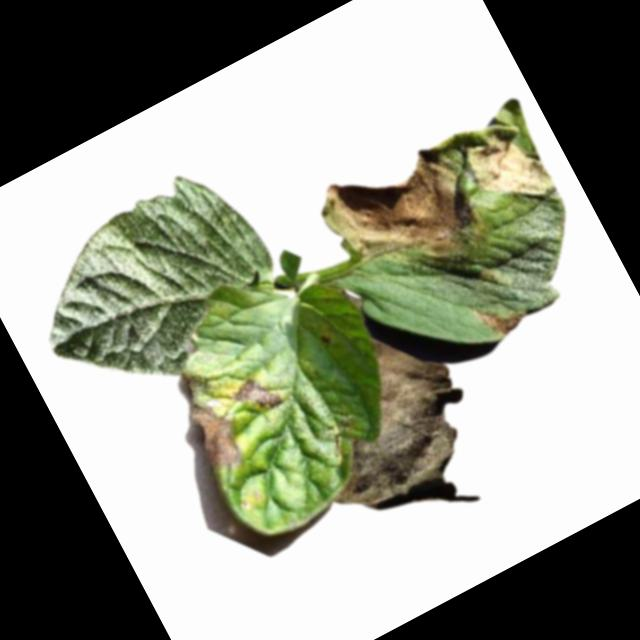Late_blight: (275, 312, 491, 525), (310, 127, 501, 314), (457, 113, 559, 222), (182, 388, 258, 479), (229, 368, 285, 423), (475, 293, 529, 345), (182, 366, 214, 400), (316, 330, 335, 349)
